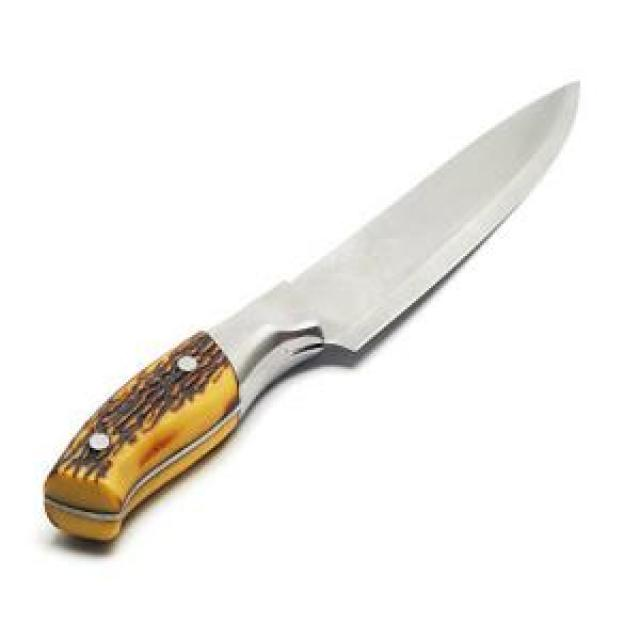knife: (43, 79, 581, 539)
